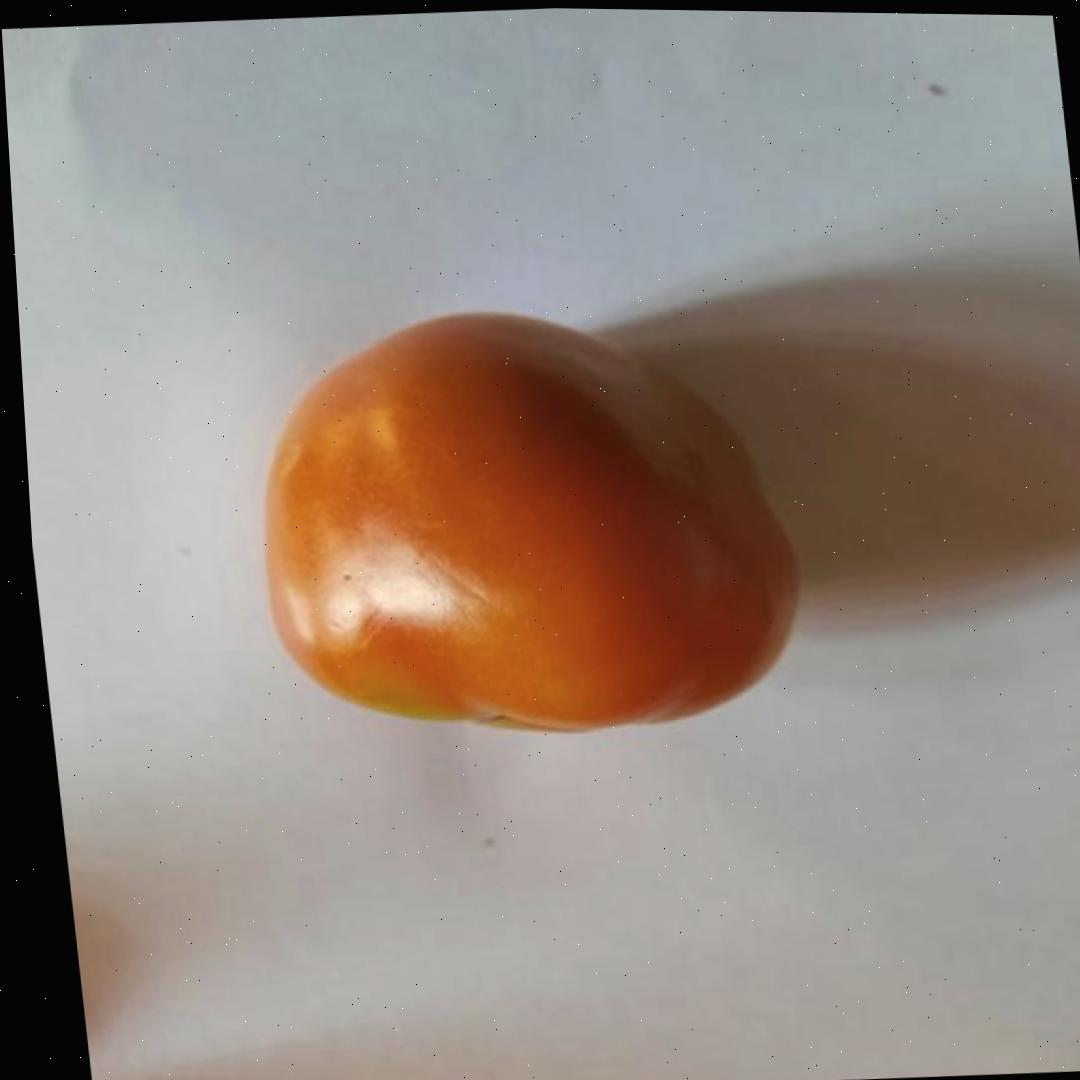matang: (234, 288, 819, 753)
